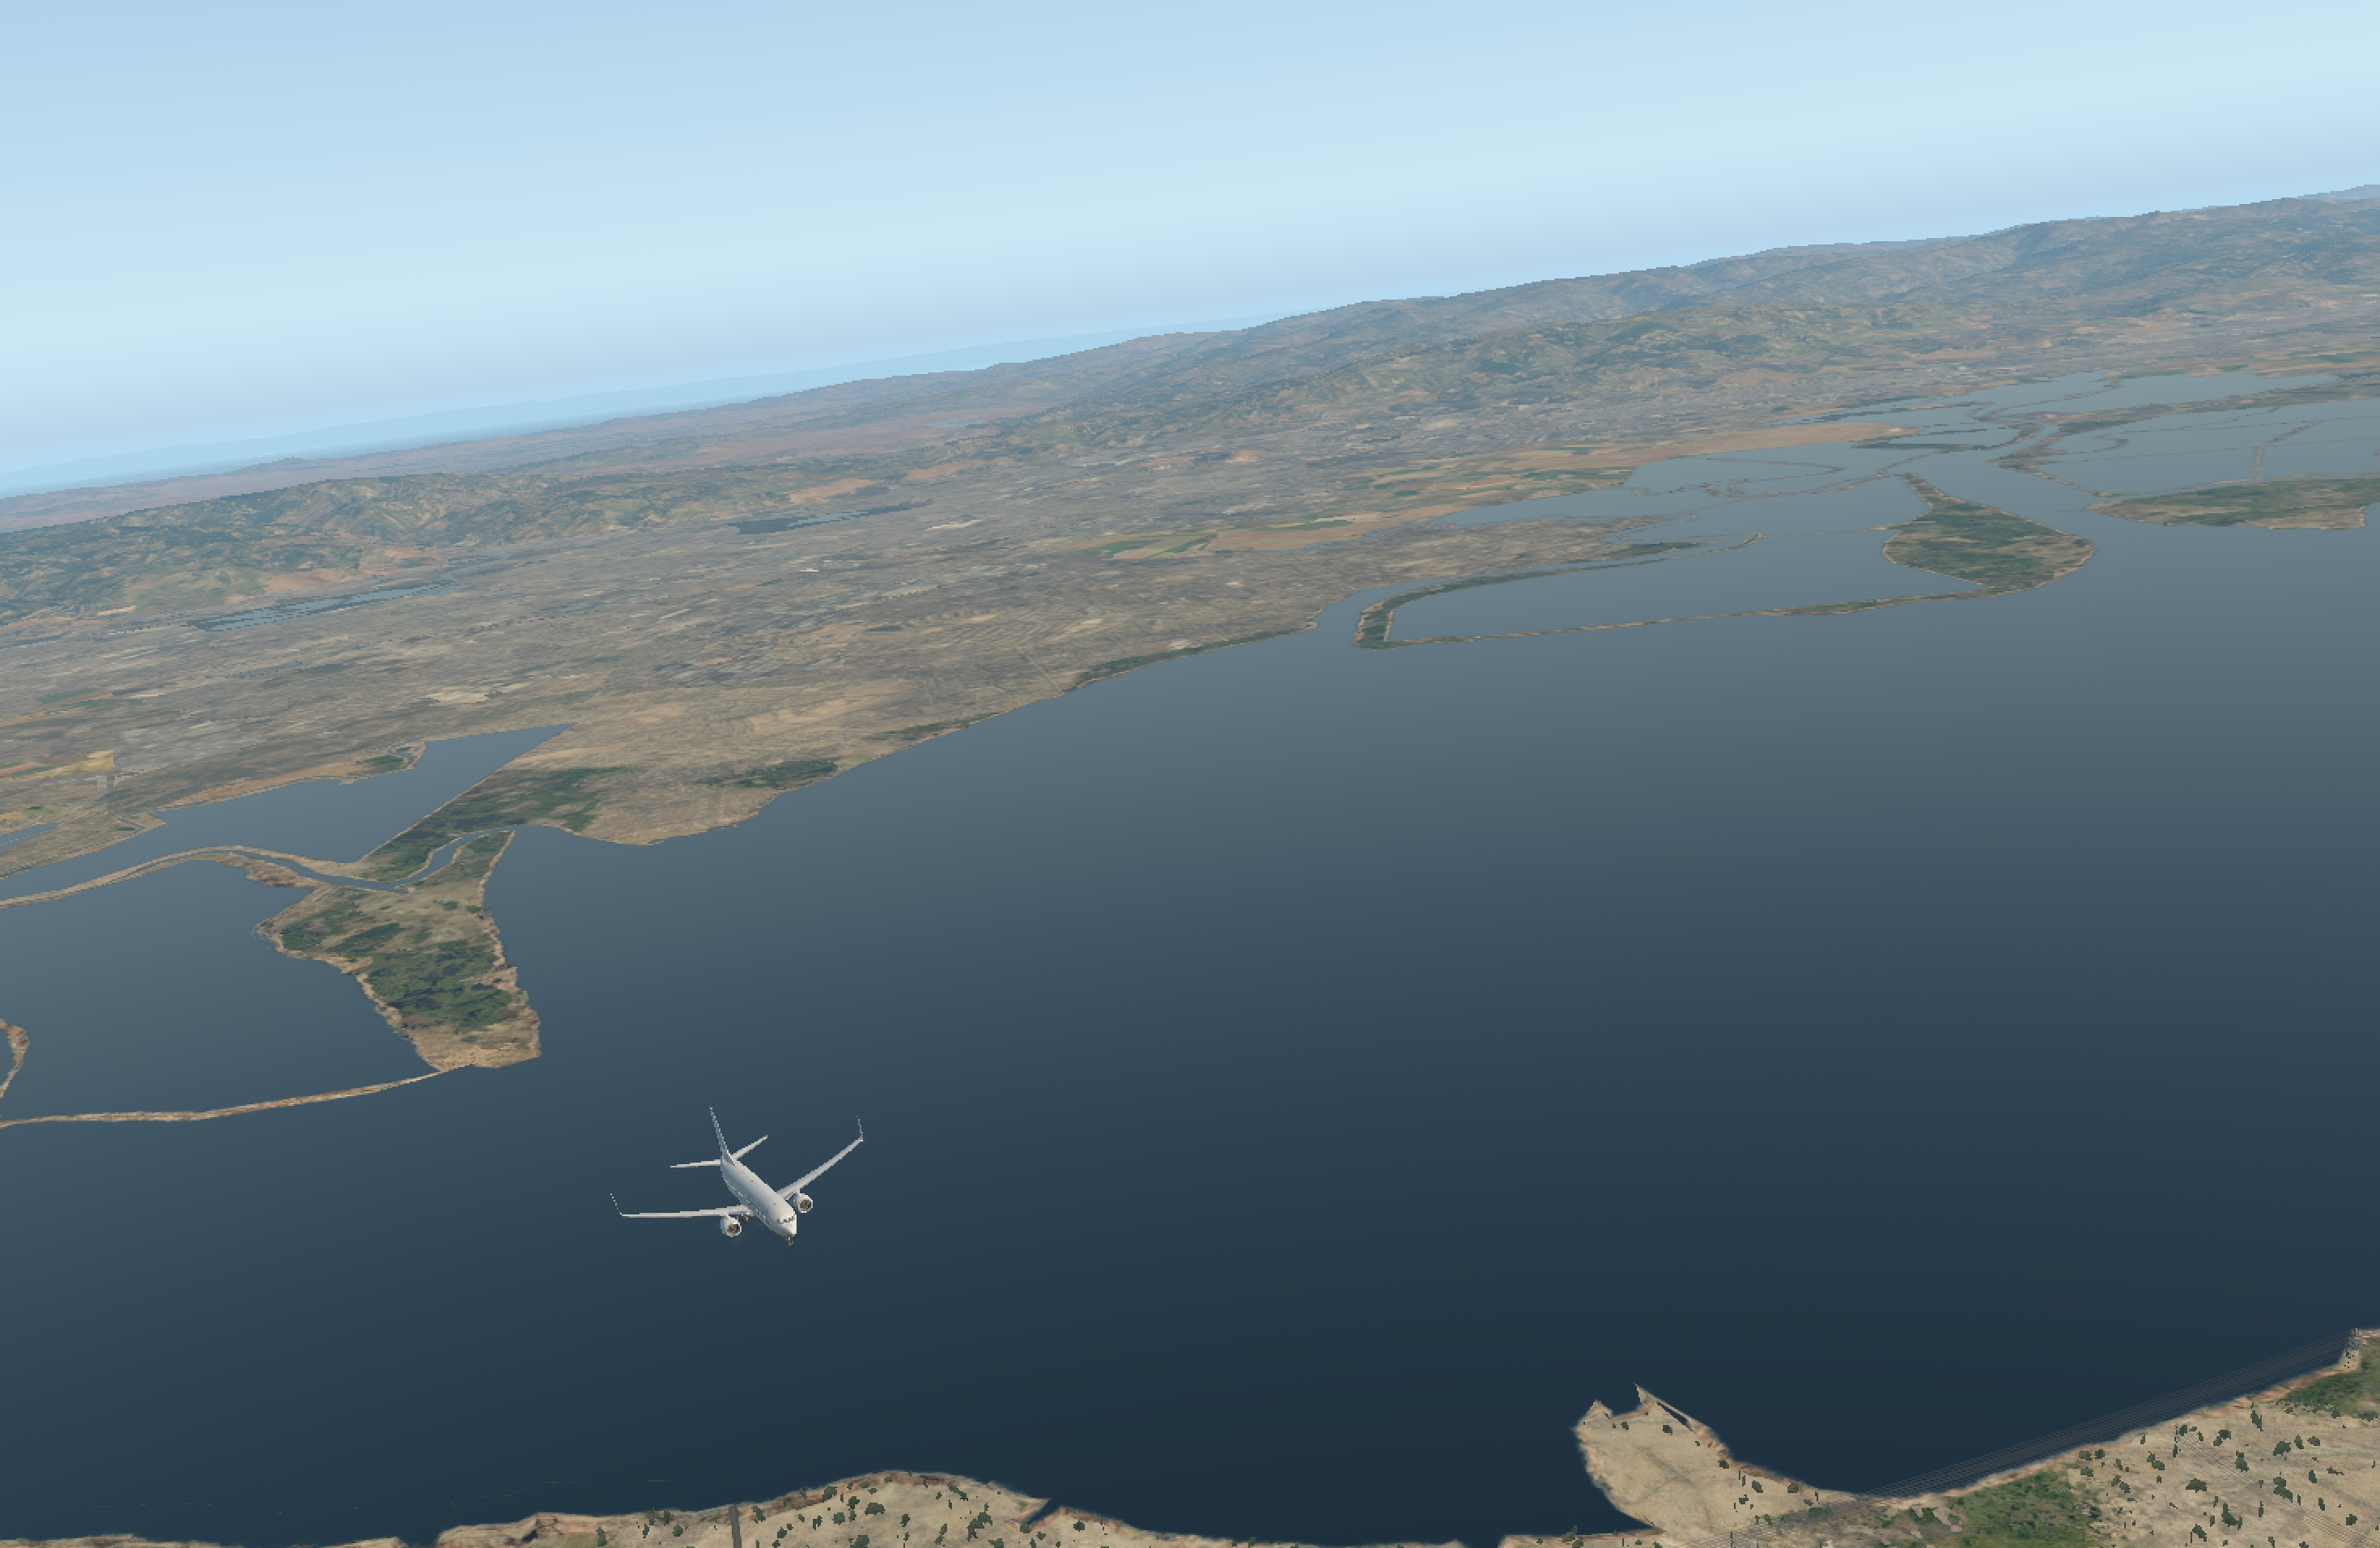aircraft: (618, 1149, 900, 1255)
